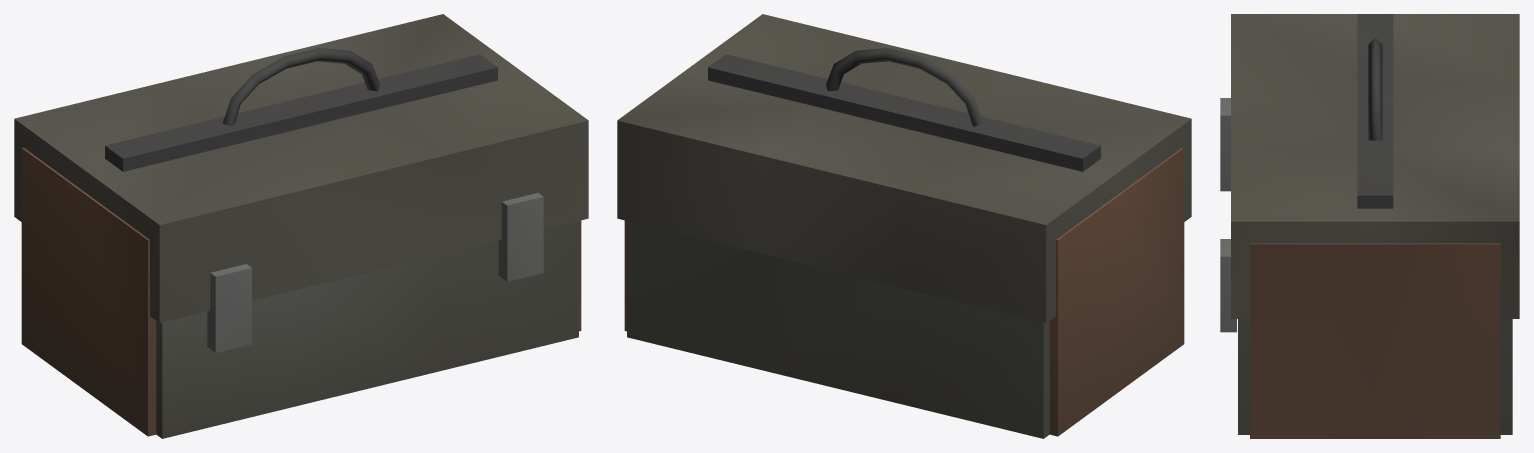
File: m01_prop_ammo_tin_box_lod0.glb
3 renders of one model, left to right at view 1: azimuth 30°, elevation 25°; view 2: azimuth 150°, elevation 25°; view 3: azimuth 270°, elevation 25°, orthographic.
Visible parts, largest first — view 1: ammo_tin_box; view 2: ammo_tin_box; view 3: ammo_tin_box.
Boxes of the visible parts, bbox=[...] form: ammo_tin_box: bbox=[14, 14, 588, 438]; ammo_tin_box: bbox=[617, 14, 1191, 438]; ammo_tin_box: bbox=[1220, 14, 1519, 438].
Bounding box in the file's own units: 0.416 × 0.2618 × 0.251.
